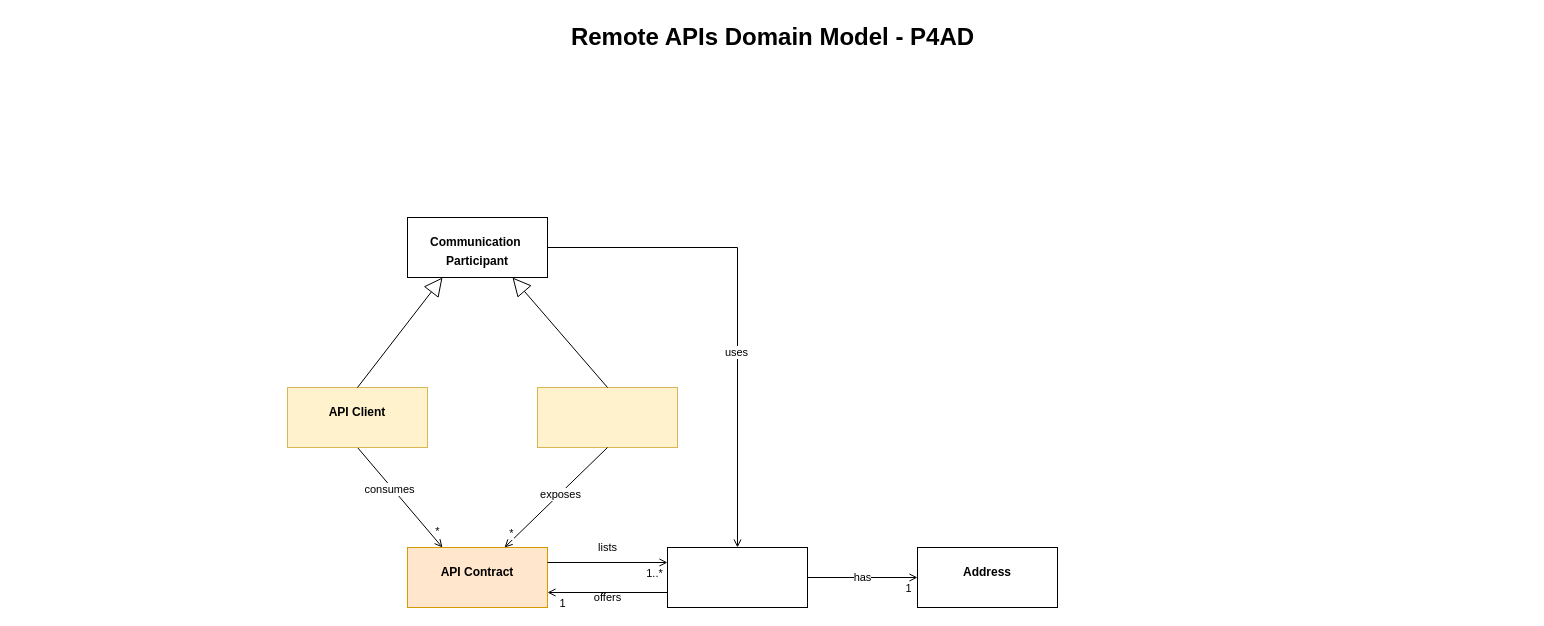
The diagram is 1544 pixels wide and 626 high, and some of its shapes have lost their labels. Each missing label, with the box of its shape:
API Endpoint: (666, 546, 808, 608)
API Provider: (536, 386, 678, 448)
